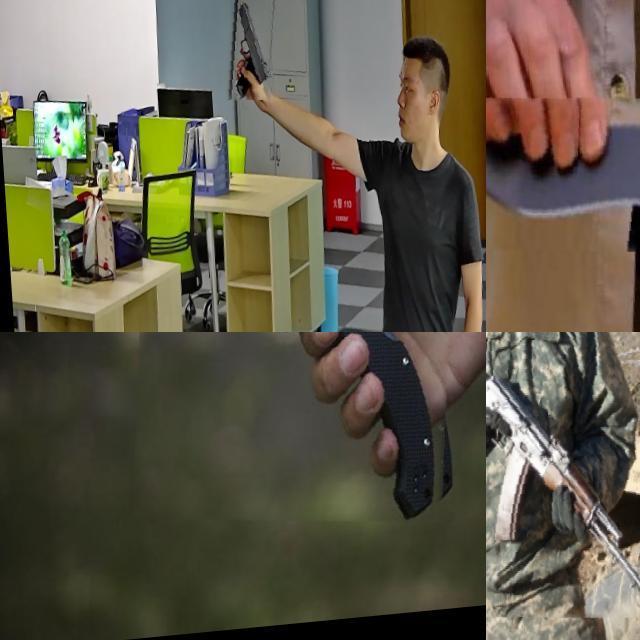-: (113, 332, 467, 566), (486, 74, 640, 290)
gun-knife-thesis - v11 Yolov5 augmented: (486, 332, 640, 640), (216, 0, 276, 107)
